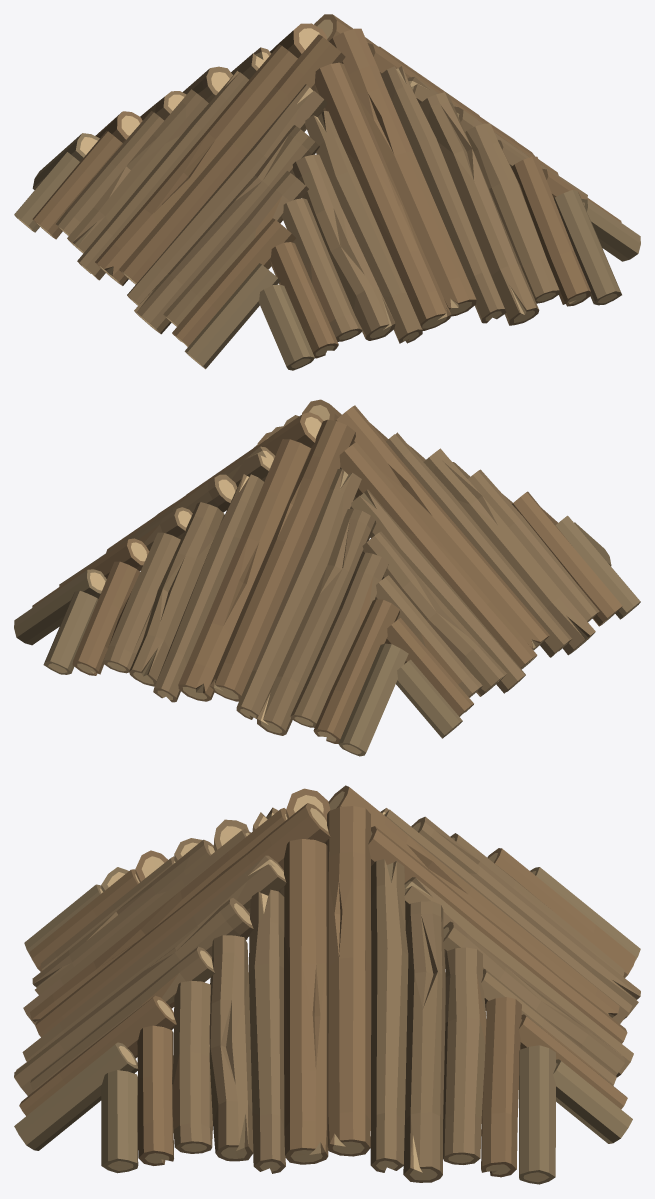
Rendered from rpgpp_ag_tower_01_platform_02_roof_02a.fbx.
The picture shows the model from 3 angles, top to bottom: view 1: azimuth 30°, elevation 25°; view 2: azimuth 150°, elevation 25°; view 3: azimuth 270°, elevation 25°; orthographic projection. The views are drawn at different scales.
Visible parts, largest first — view 1: rpgpp_ag_tower_01_platform_02_roof_02a; view 2: rpgpp_ag_tower_01_platform_02_roof_02a; view 3: rpgpp_ag_tower_01_platform_02_roof_02a.
Part boxes in pixels (box(x1,y1,x2,y2)): rpgpp_ag_tower_01_platform_02_roof_02a: box(14, 14, 640, 370); rpgpp_ag_tower_01_platform_02_roof_02a: box(14, 399, 640, 756); rpgpp_ag_tower_01_platform_02_roof_02a: box(14, 785, 640, 1184).
Size of the model in its own units: 6 by 2.82 by 6.02.
